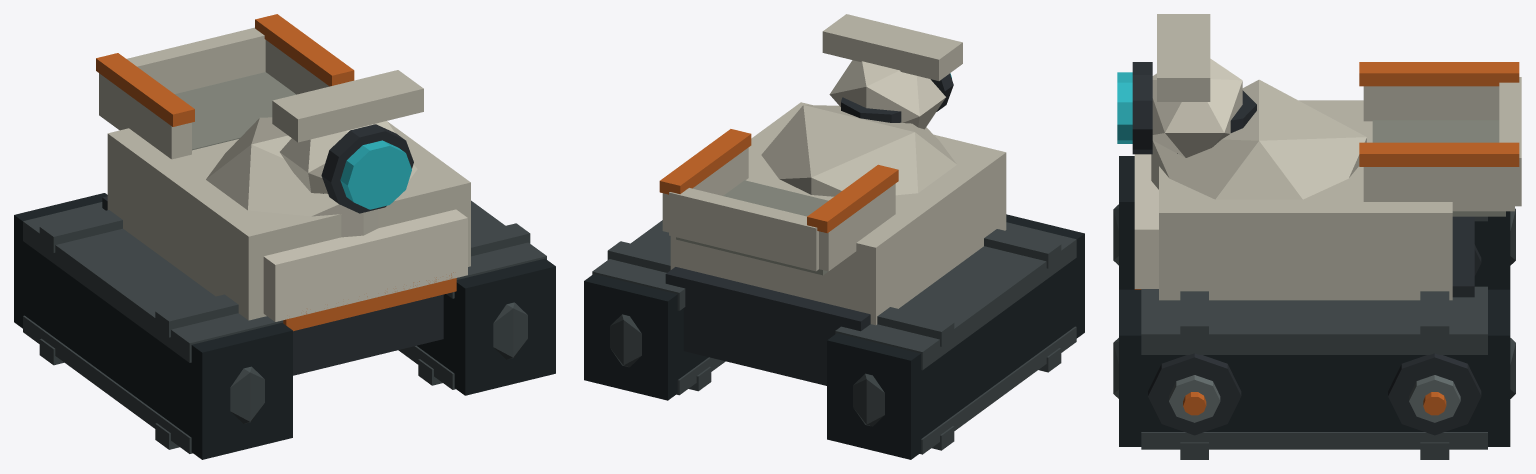
File: tracked_robot_v01-BP3o_1k2.glb
The picture shows the model from 3 angles, left to right: view 1: azimuth 30°, elevation 25°; view 2: azimuth 150°, elevation 25°; view 3: azimuth 270°, elevation 25°; orthographic projection. The views are drawn at different scales.
Visible parts, largest first — view 1: body, trackL, trackR; view 2: body, trackL, trackR; view 3: body, trackR, trackL.
Part boxes in pixels (left/top/right/bottom): body: left=96, top=14, right=470, bottom=375; trackL: left=14, top=193, right=292, bottom=459; trackR: left=398, top=200, right=555, bottom=395; body: left=659, top=14, right=1006, bottom=385; trackL: left=827, top=214, right=1084, bottom=459; trackR: left=584, top=220, right=725, bottom=400; body: left=1117, top=14, right=1521, bottom=300; trackR: left=1113, top=286, right=1515, bottom=459; trackL: left=1113, top=156, right=1515, bottom=289.
Size of the model in its own units: 1.04 by 0.8 by 0.9175.
